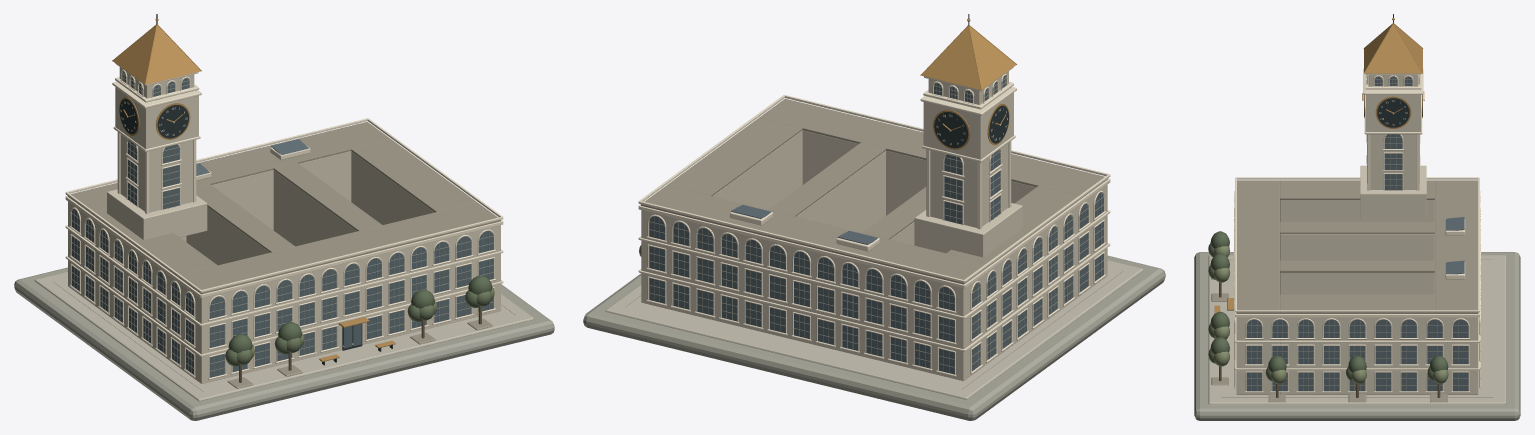
Rendered from clocktower.glb.
3 views of the same model, side by side, from view 1: azimuth 30°, elevation 25°; view 2: azimuth 150°, elevation 25°; view 3: azimuth 270°, elevation 25° (orthographic). The views are drawn at different scales.
Parts seen in each view (by area): view 1: House, Roof, Ground, Landscape, Props; view 2: House, Roof, Ground, Props; view 3: House, Roof, Ground, Landscape, Props.
Boxes of the visible parts, x1=… form: House: x1=65, y1=63, x2=503, y2=383; Roof: x1=68, y1=14, x2=500, y2=294; Ground: x1=14, y1=267, x2=554, y2=420; Landscape: x1=225, y1=275, x2=494, y2=382; Props: x1=119, y1=97, x2=395, y2=365; House: x1=638, y1=67, x2=1110, y2=381; Roof: x1=641, y1=14, x2=1107, y2=284; Ground: x1=583, y1=255, x2=1165, y2=420; Props: x1=933, y1=103, x2=1009, y2=149; House: x1=1234, y1=68, x2=1480, y2=394; Roof: x1=1236, y1=14, x2=1478, y2=313; Ground: x1=1194, y1=252, x2=1520, y2=420; Landscape: x1=1208, y1=231, x2=1448, y2=397; Props: x1=1214, y1=91, x2=1424, y2=338.
Bounding box in the file's own units: 28 × 22.83 × 24.
